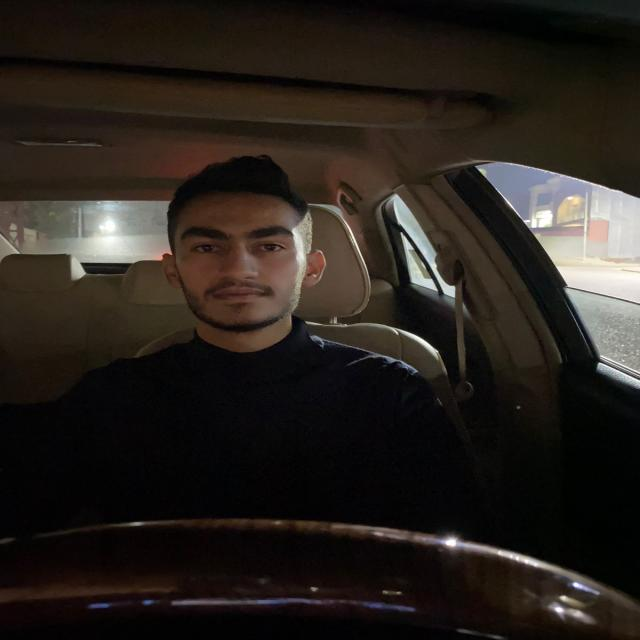person: (156, 148, 329, 344)
